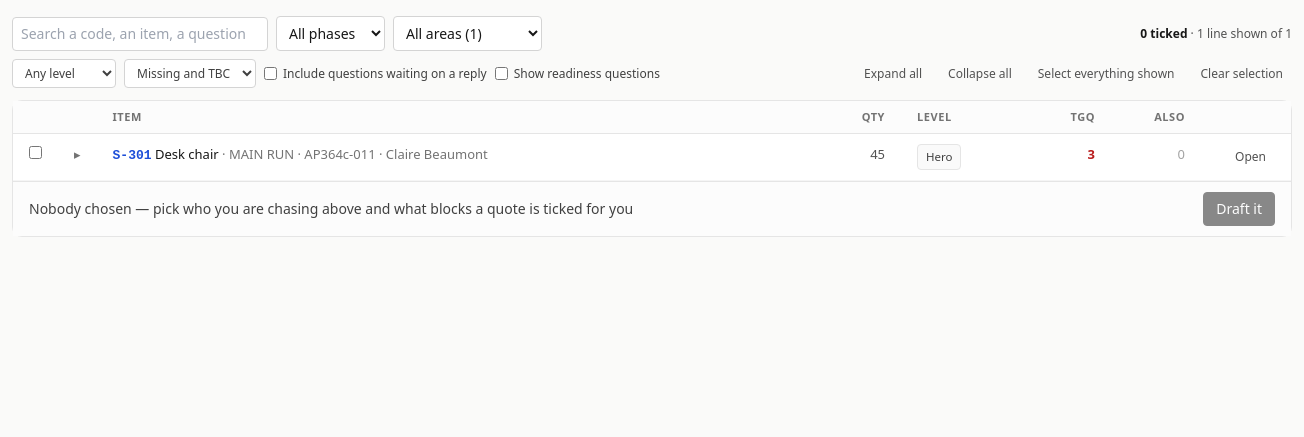
the furniture line is the row › shows one row per line, with no questions until it is opened
Expected: the link "S-301" is shown, x1=112 y1=148 x2=152 y2=163
Expected: the text "Question 1" is not shown
Click the text "Desk chair" at (187, 154), box x1=155 y1=145 x2=219 y2=163
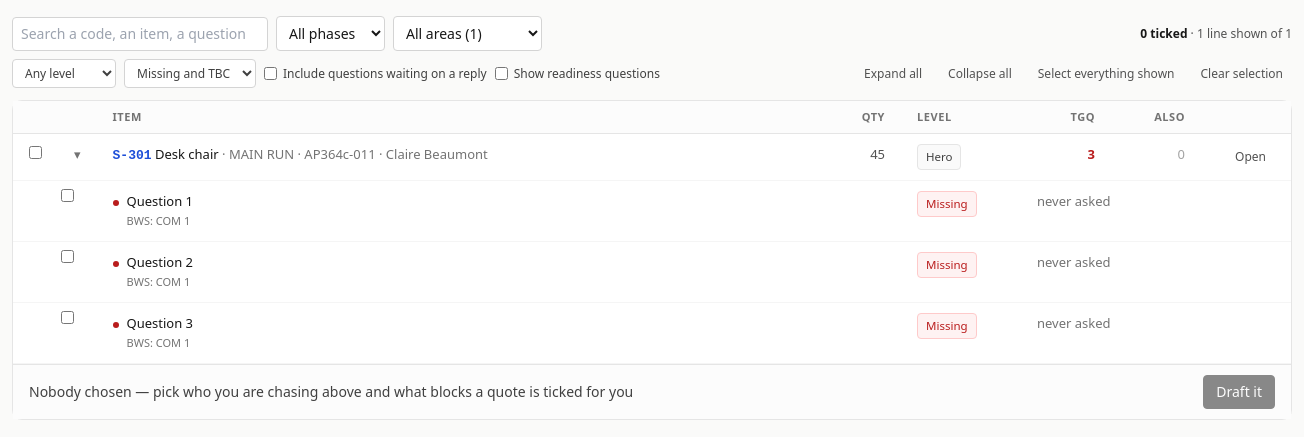
Expected: the text "Question 1" is shown, x1=126 y1=192 x2=193 y2=210
